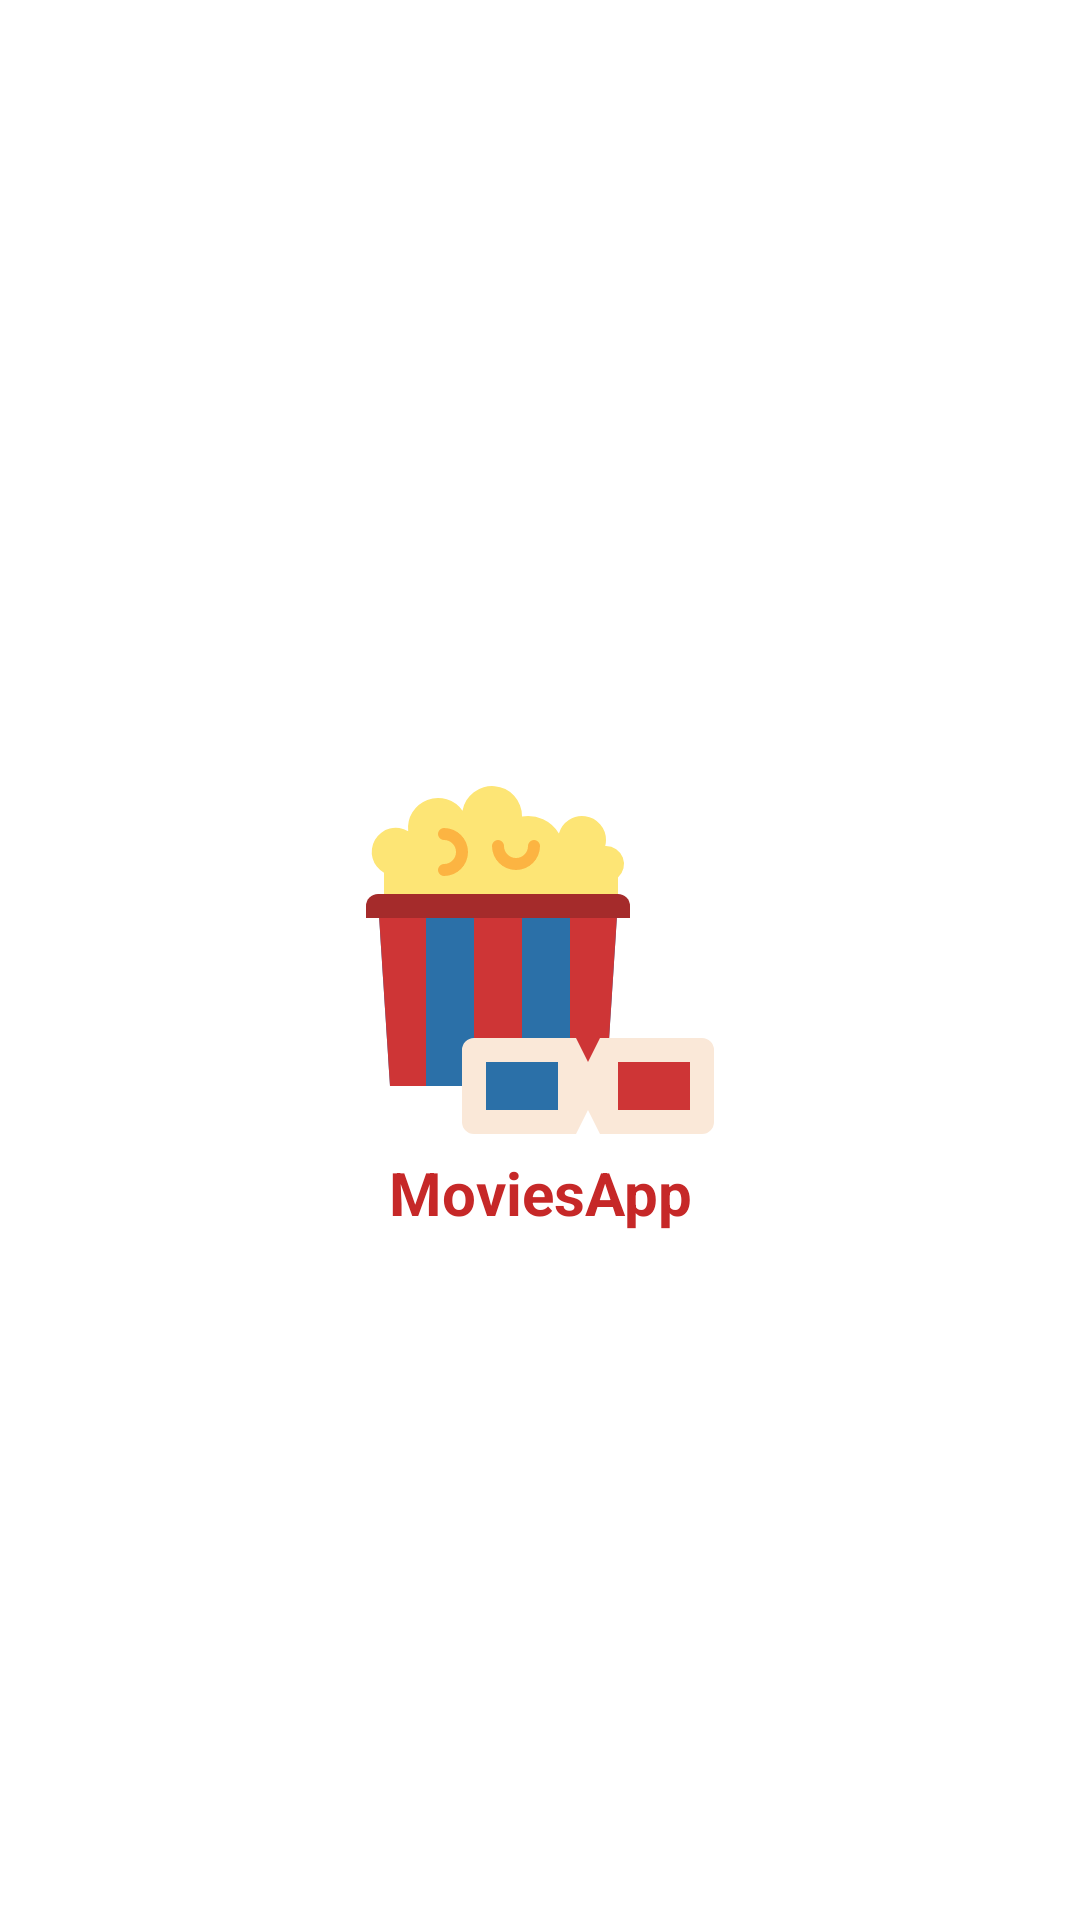

Icons on this 1080px x 1920px Android screen, each with the point to tap as point (x, y):
icono de la app: point (540, 960)
